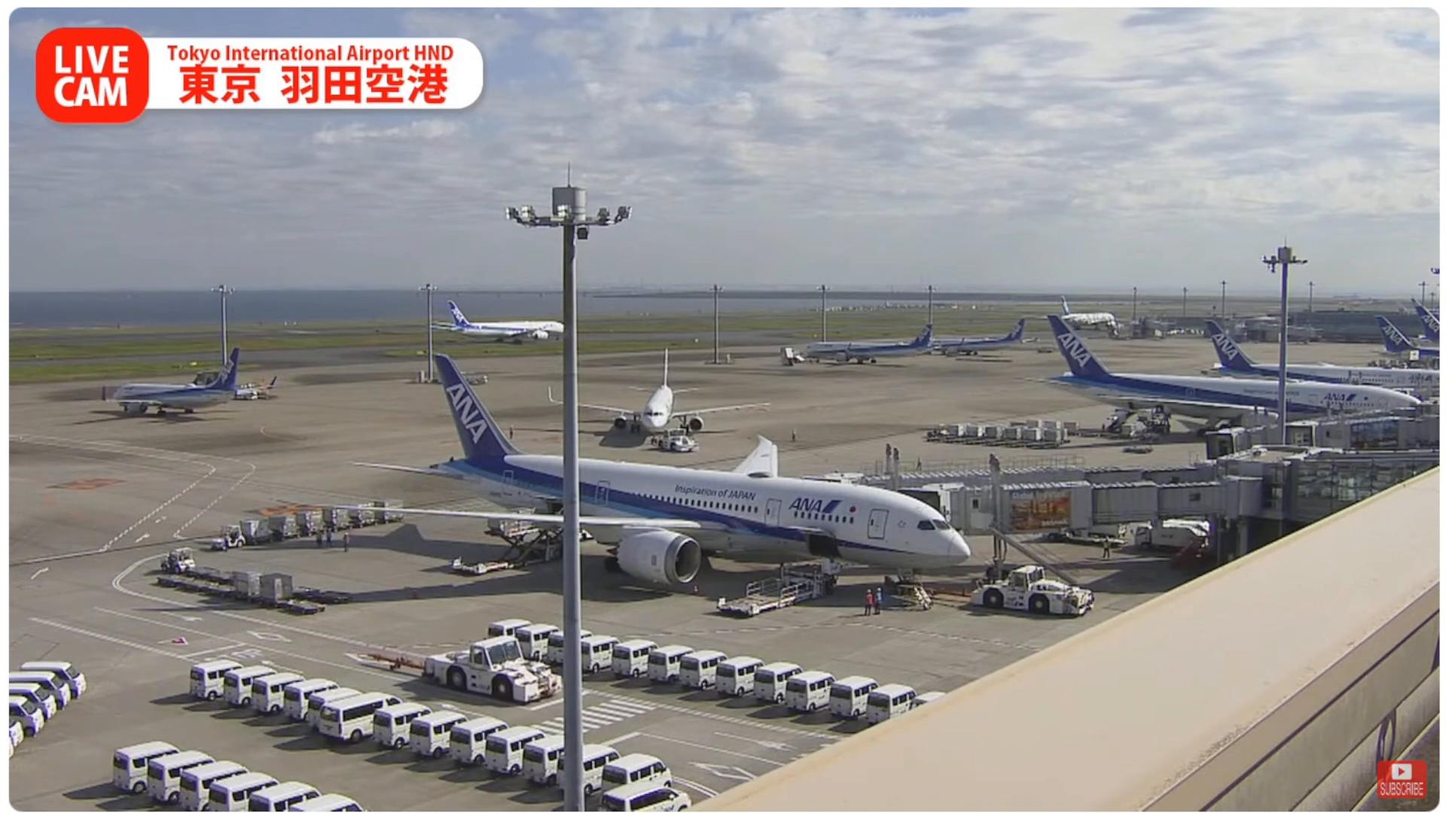APS: (969, 564, 1106, 619)
Aerobridge: (845, 460, 1217, 536), (991, 476, 1264, 540)
Airplane: (330, 354, 973, 599)
Dolly: (156, 566, 329, 618), (239, 496, 407, 547)
JCPL: (699, 546, 848, 617), (450, 523, 565, 571)
Tractor: (150, 539, 200, 572), (199, 519, 249, 552)
Window: (1290, 456, 1440, 523)
